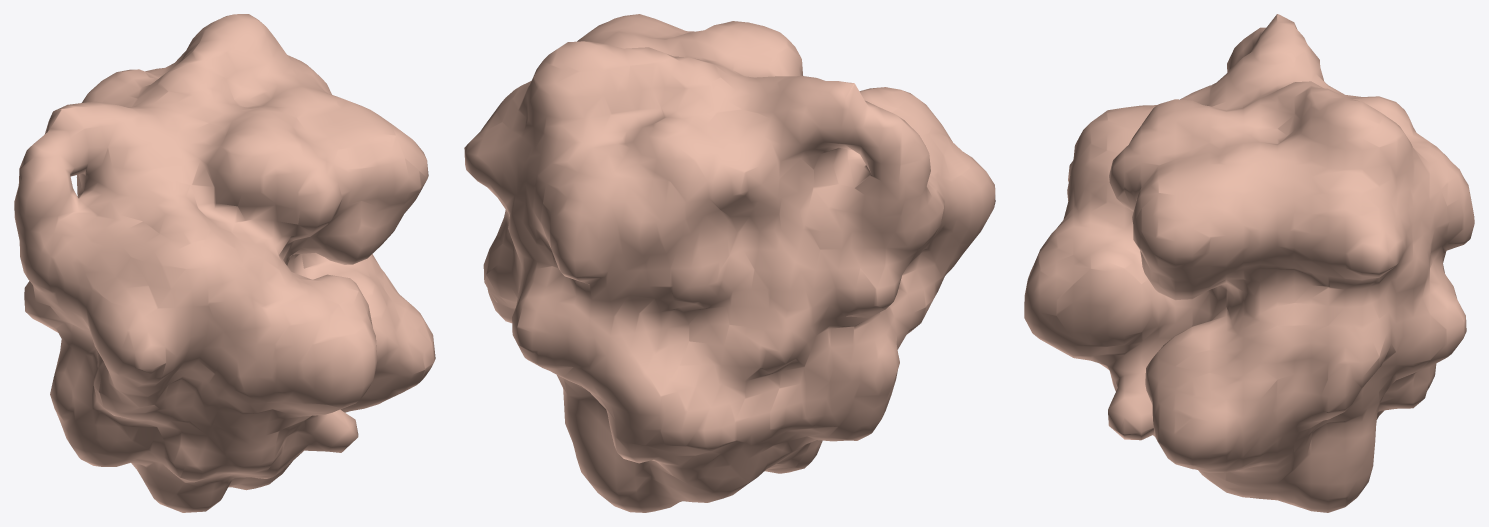
The model's file is Ceruloplasmin_2.dae.
3 renders of one model, left to right at view 1: azimuth 30°, elevation 25°; view 2: azimuth 150°, elevation 25°; view 3: azimuth 270°, elevation 25°, orthographic. The views are drawn at different scales.
Visible parts, largest first — view 1: CoarseMS_1kcw; view 2: CoarseMS_1kcw; view 3: CoarseMS_1kcw.
Part boxes in pixels (x1,y1,x2,y2): CoarseMS_1kcw: [14, 14, 435, 512]; CoarseMS_1kcw: [464, 14, 995, 512]; CoarseMS_1kcw: [1024, 14, 1474, 512].
Bounding box in the file's own units: 79.89 × 85.13 × 82.68.
